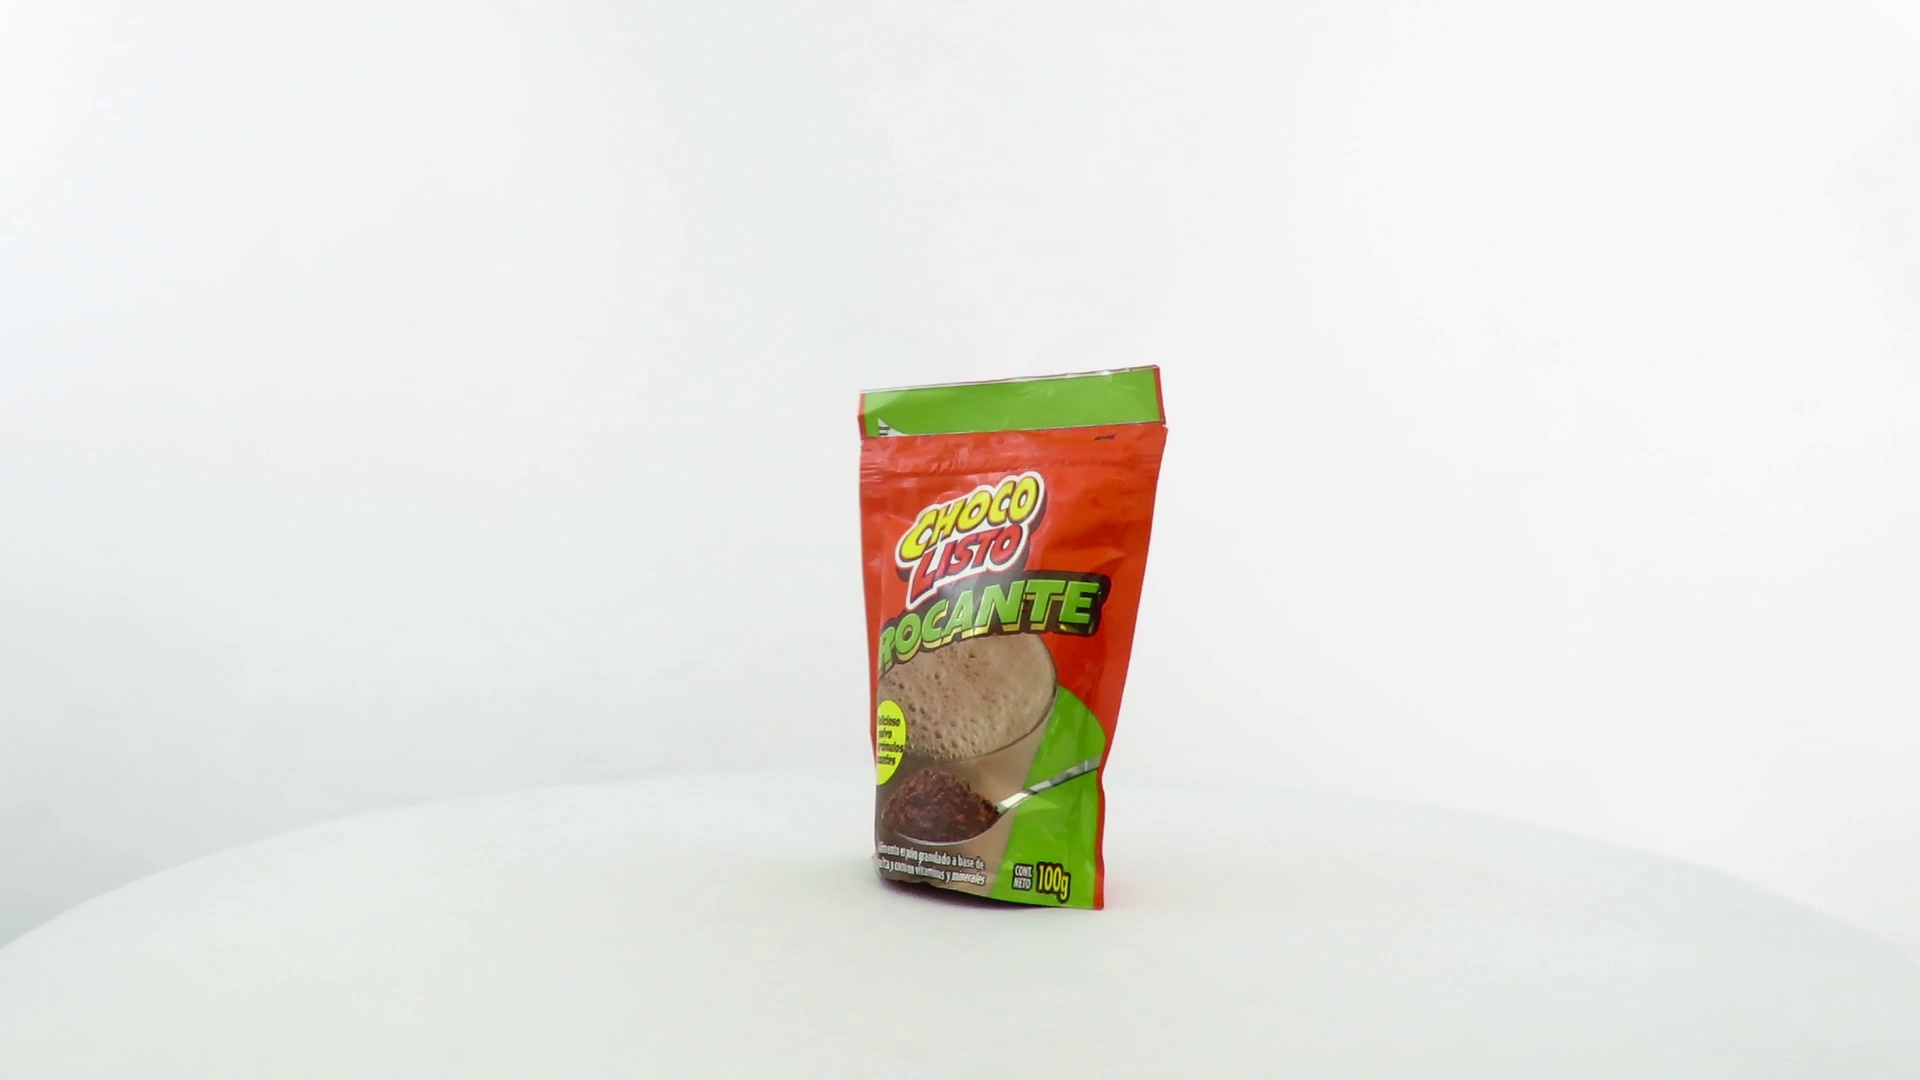COL0170102DYP10000: (852, 359, 1174, 916)
